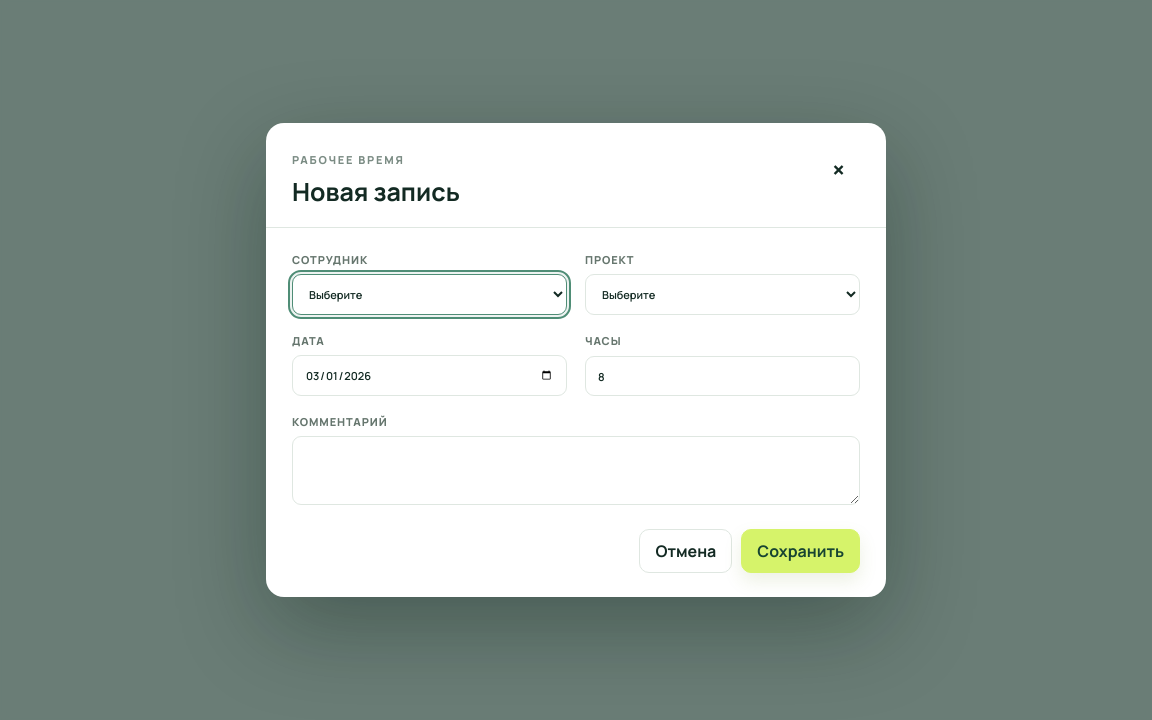
Test: EntryModal › asks for the employee and the project
Step 1. Click the button "Сохранить" → (801, 551), box [741,529,860,573]
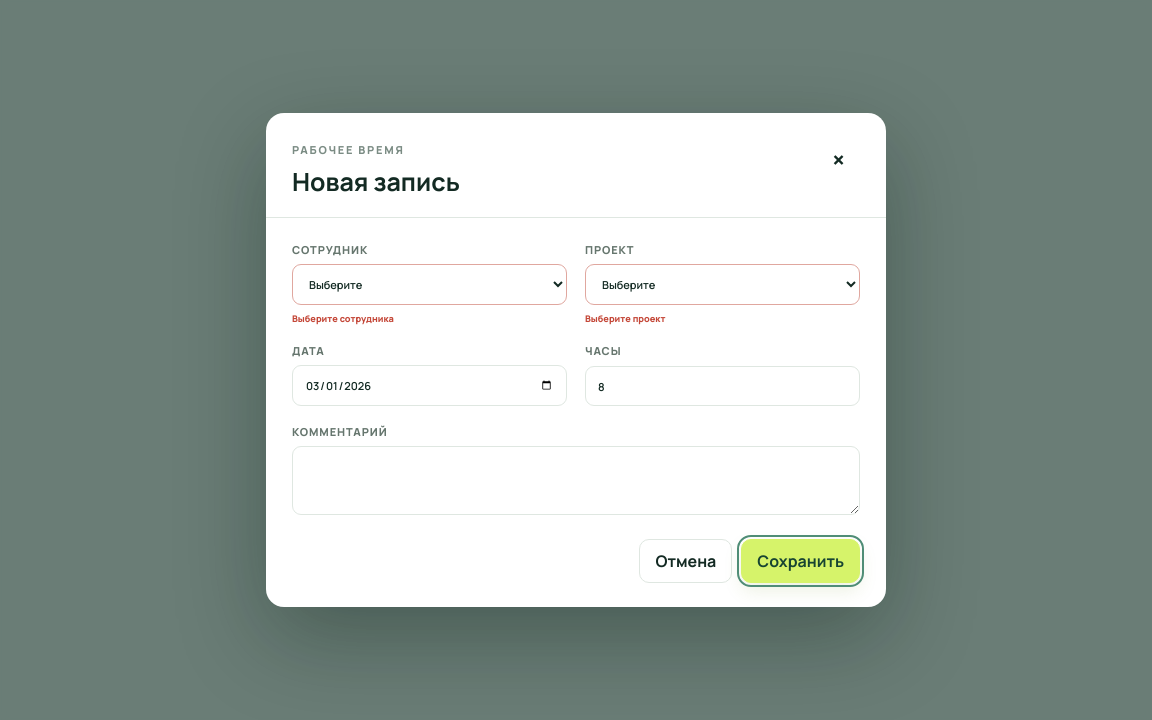
Expected: the text "Выберите сотрудника" is shown, [292,312,394,325]
Expected: the text "Выберите проект" is shown, [585,312,665,325]
